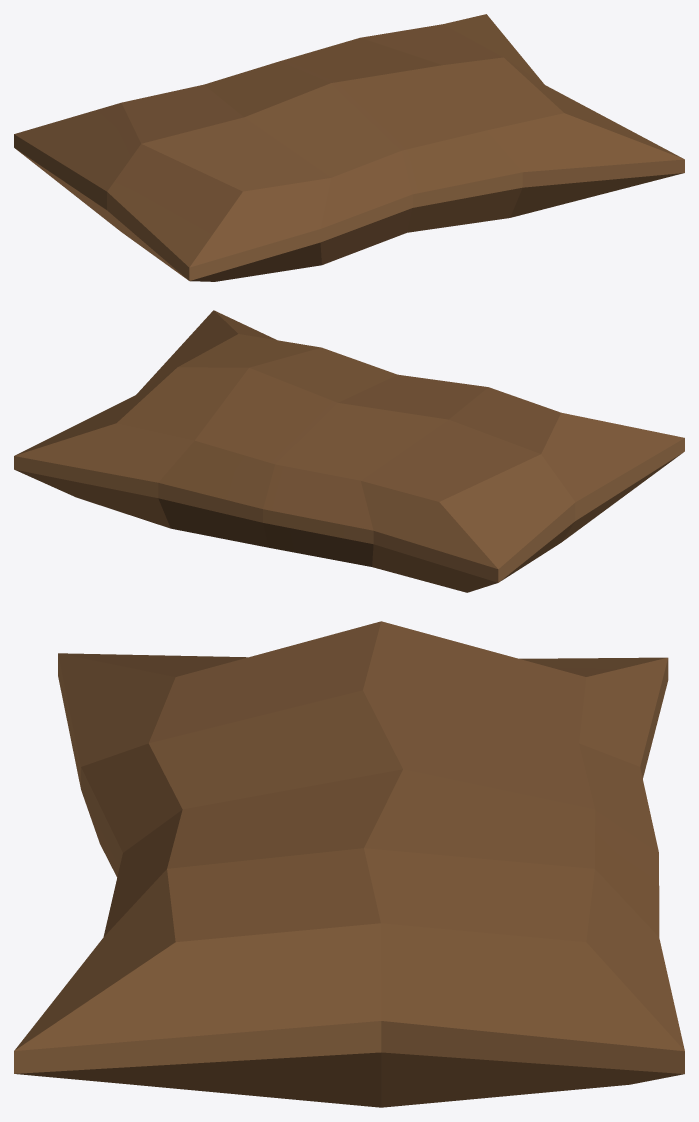
Rendered from Sandbag_01.glb.
3 views of the same model, one above another, from view 1: azimuth 30°, elevation 25°; view 2: azimuth 150°, elevation 25°; view 3: azimuth 270°, elevation 25° (orthographic). The views are drawn at different scales.
Visible parts, largest first — view 1: Sandbag_01; view 2: Sandbag_01; view 3: Sandbag_01.
Boxes of the visible parts, bbox=[...] form: Sandbag_01: bbox=[14, 14, 684, 281]; Sandbag_01: bbox=[14, 310, 684, 592]; Sandbag_01: bbox=[14, 621, 684, 1107].
Size of what is drawn, in the model's own units: 1.1 by 0.2373 by 0.7841.
1 material, 1 textured.
